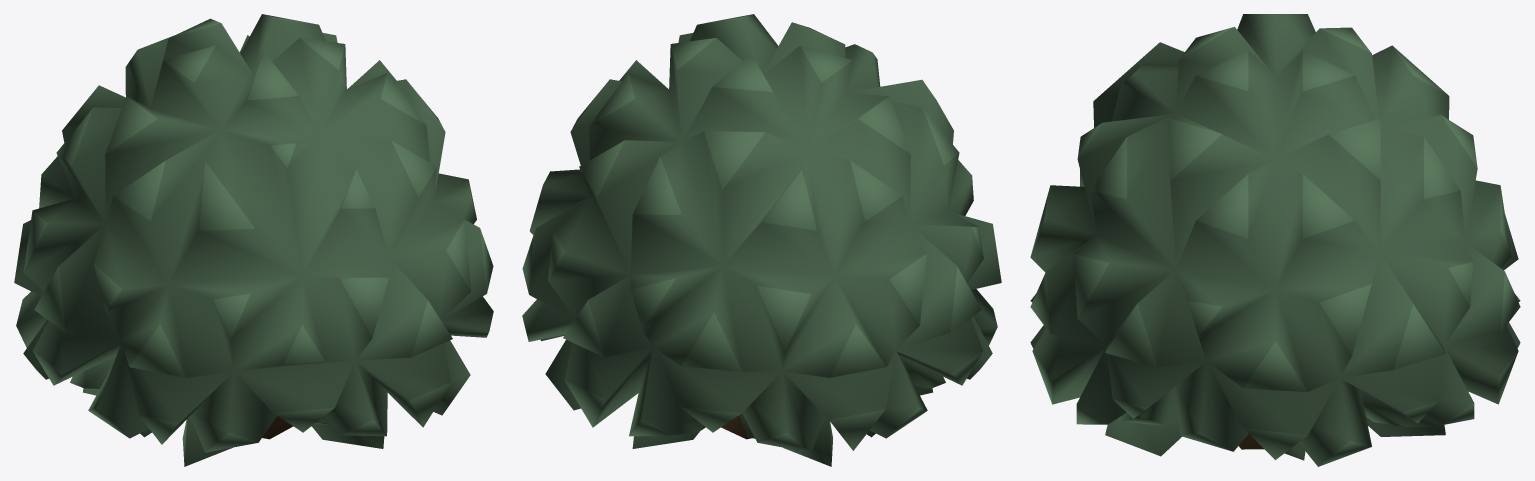
Rendered from bushLG_20210127.fbx.
The picture shows the model from 3 angles, left to right: view 1: azimuth 30°, elevation 25°; view 2: azimuth 150°, elevation 25°; view 3: azimuth 270°, elevation 25°; orthographic projection. The views are drawn at different scales.
Parts seen in each view (by area): view 1: bush; view 2: bush; view 3: bush.
Part boxes in pixels (box(x1,y1,x2,y2)): bush: box(14, 14, 493, 466); bush: box(522, 14, 1001, 466); bush: box(1030, 14, 1520, 466).
Bounding box in the file's own units: 0.7715 × 0.6795 × 0.7649.
